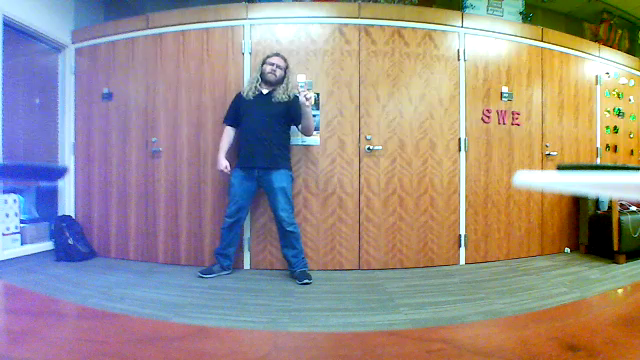peace: (293, 77, 317, 110)
